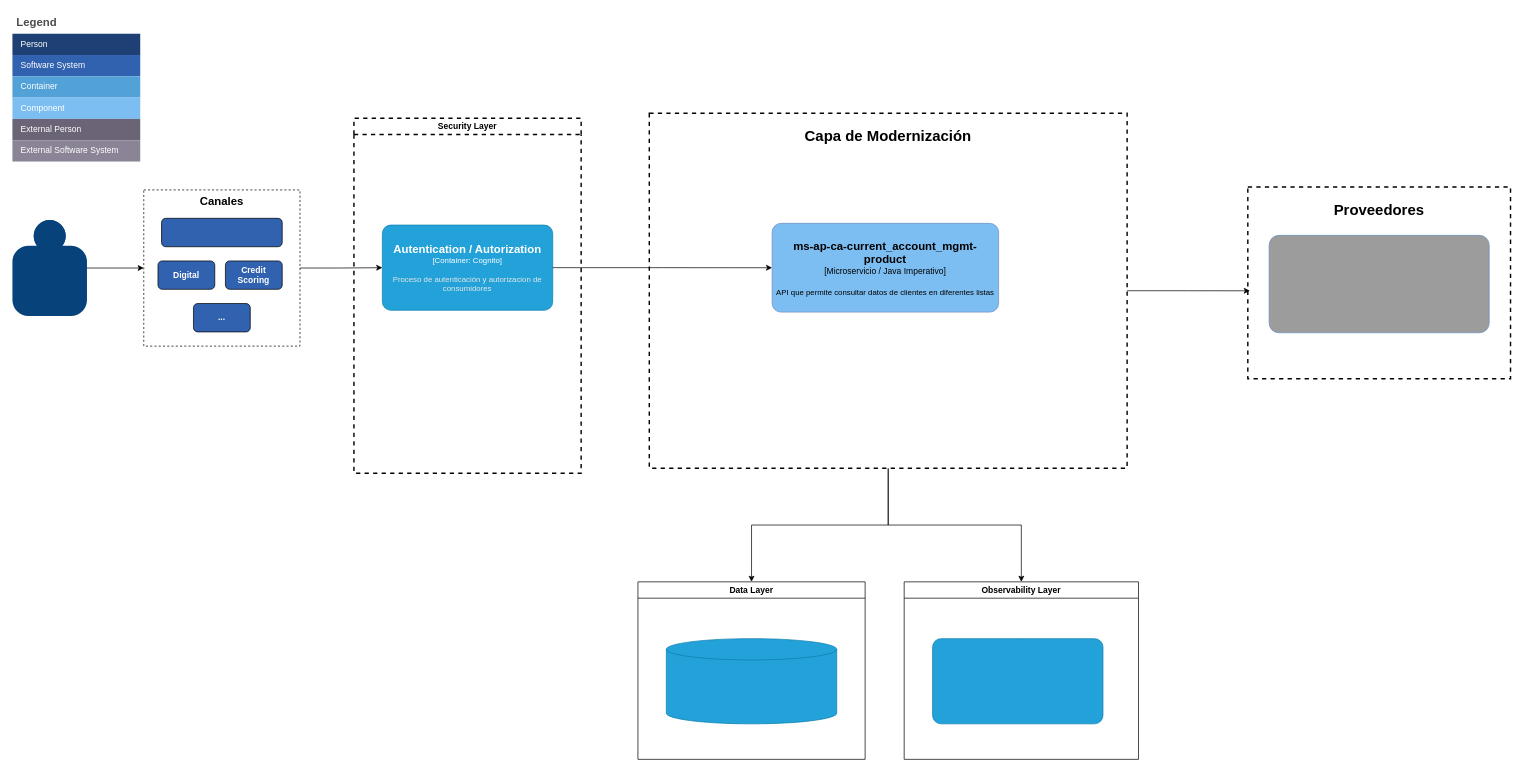
This 1523x772 diagram has some shape labels left out. The shapes that lost their labels are listed below. From the top down, each one's centre as x and y in pixels, then its label:
the point at 221,232: Interbanca (WEB y APP)
the point at 49,268: User Consumer [Person] Usuarios/Clientes del Banco
the point at 1378,284: T24 [Software System] Core Bancario
the point at 751,681: MapeoErrores [Container: Elasticache (Redis)] Tabla Dynamo
the point at 1017,681: Monitoring and traceability [Dynatrace] Managing logs, traces and metrics
